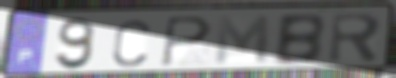9: (54, 16, 98, 73)
B: (271, 12, 327, 67)
C: (109, 17, 152, 68)
M: (213, 14, 273, 67)
P: (159, 16, 214, 69)
R: (326, 11, 385, 66)
